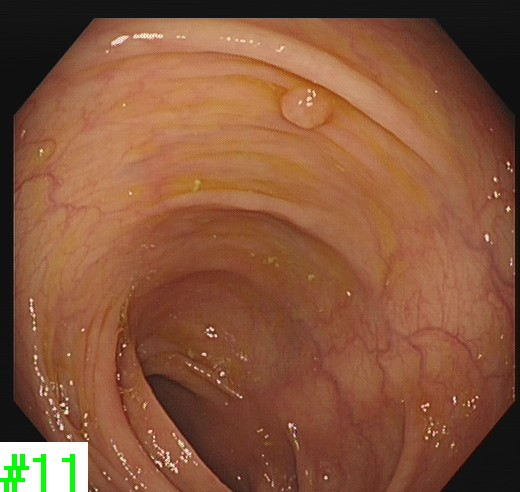adenoma: (277, 83, 335, 132)
